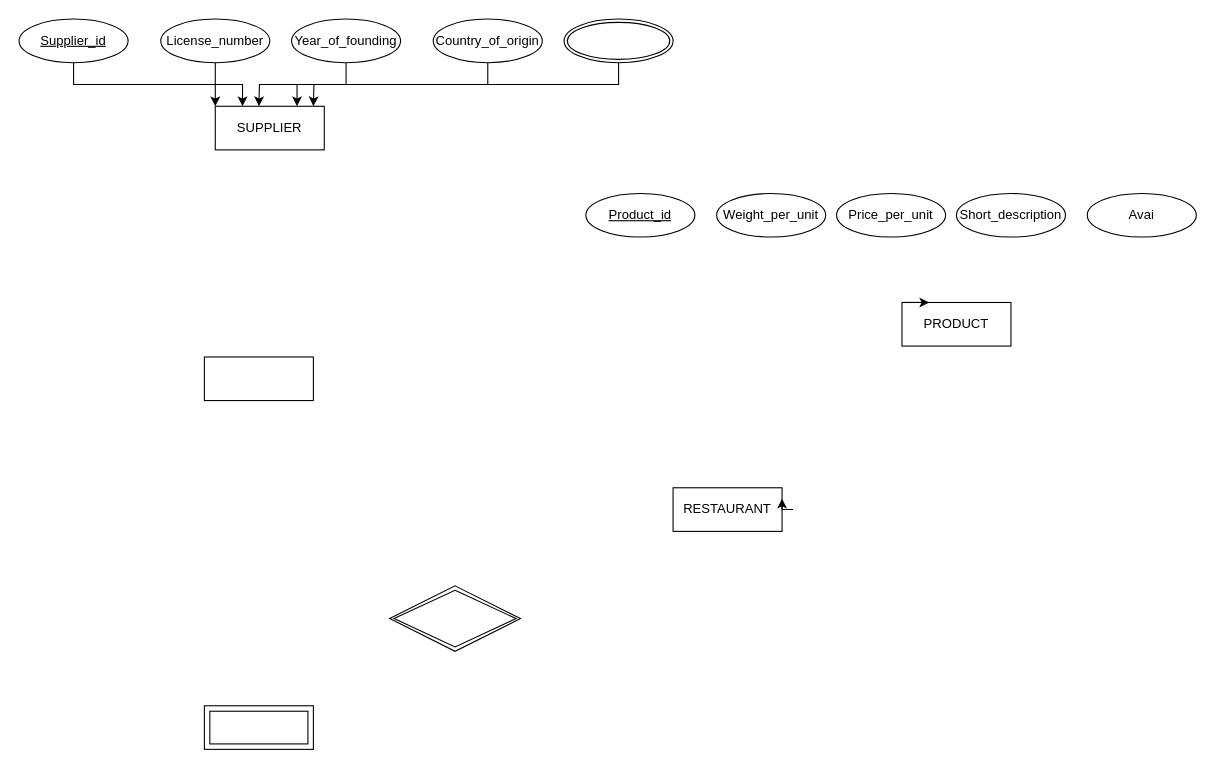
The diagram is 1215 pixels wide and 768 high, and some of its shapes have lost their labels. Each missing label, with the centre of its shape:
"CHEF" belongs at point (258, 378).
"Emails" belongs at point (618, 40).
"Relationship" belongs at point (454, 618).
"WAIT_STAFF" belongs at point (258, 727).
